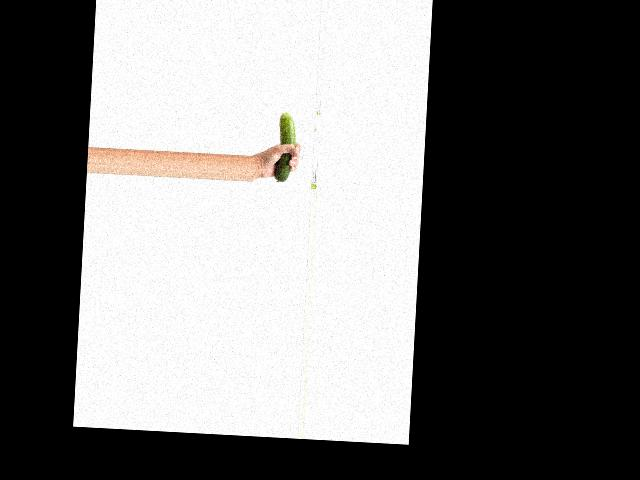cucumber: (274, 112, 297, 181)
